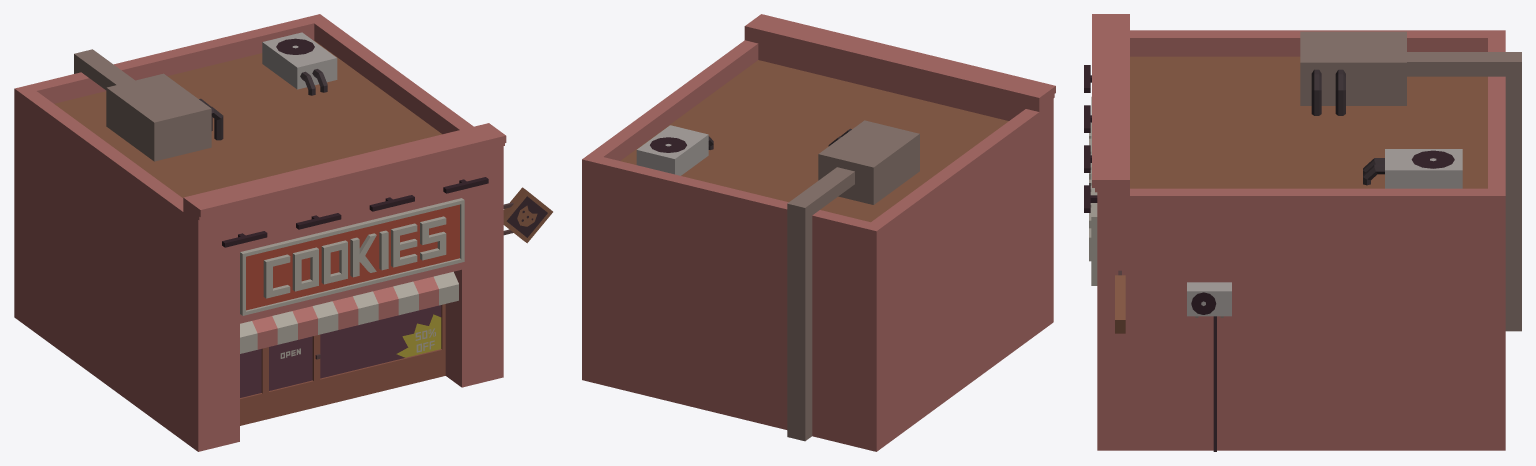
The model's file is Building_25.fbx.
3 renders of one model, left to right at view 1: azimuth 30°, elevation 25°; view 2: azimuth 150°, elevation 25°; view 3: azimuth 270°, elevation 25°, orthographic. The views are drawn at different scales.
Visible parts, largest first — view 1: Building_25, Building_25LP; view 2: Building_25; view 3: Building_25, Building_25LP.
Boxes of the visible parts, box(x1,y1,x2,y2) form: Building_25: box(14, 14, 552, 451); Building_25LP: box(240, 198, 537, 397); Building_25: box(582, 14, 1055, 451); Building_25: box(1084, 14, 1521, 451); Building_25LP: box(1089, 96, 1097, 285).
Bounding box in the file's own units: 9.75 × 6.43 × 9.15.
